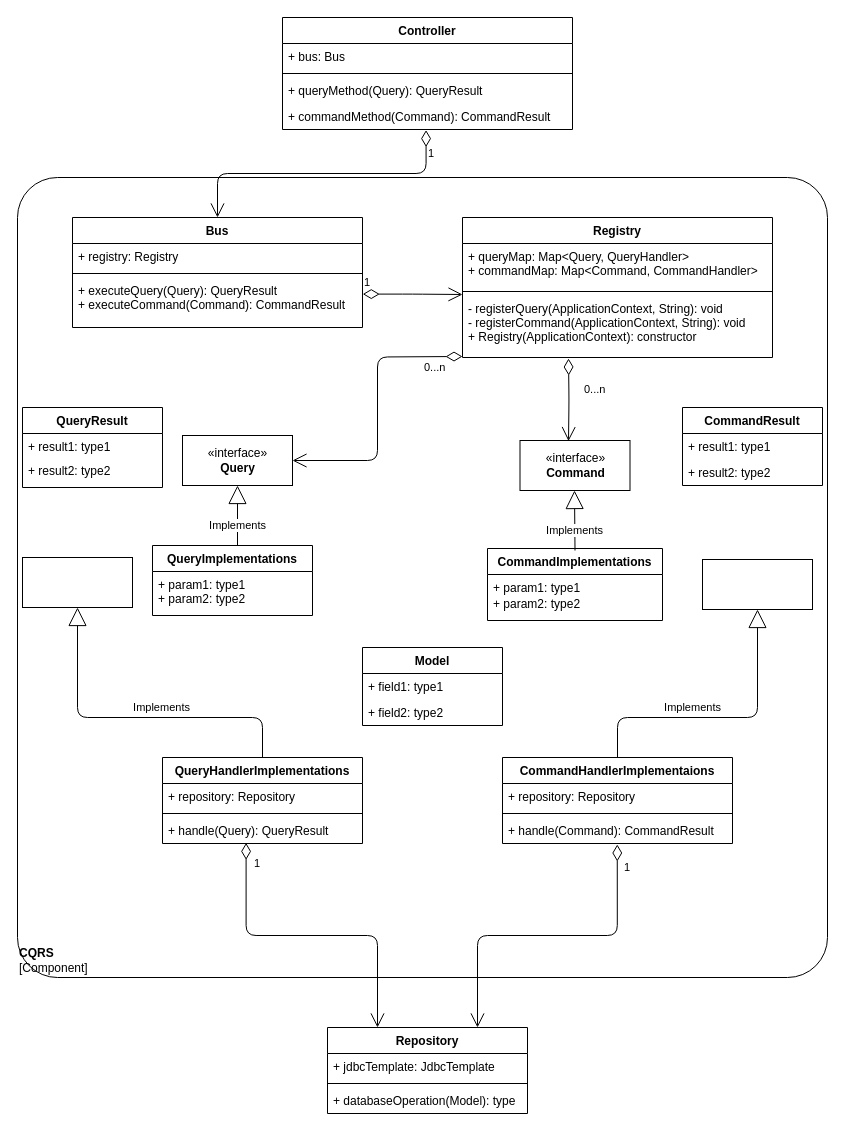
Image size: 845x1134. Some labels were removed from this diagram. The shapes that lost their labels are listed below. From the top down, each one's centre as x and y in pixels, then its label:
At pixel 77 582: "«interface» QueryHandler".
At pixel 757 584: "«interface» CommandHandler".
